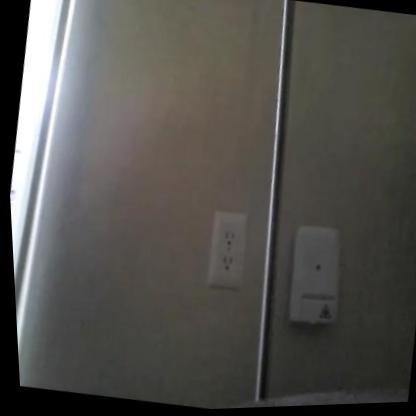OUTLET: (202, 209, 253, 290)
